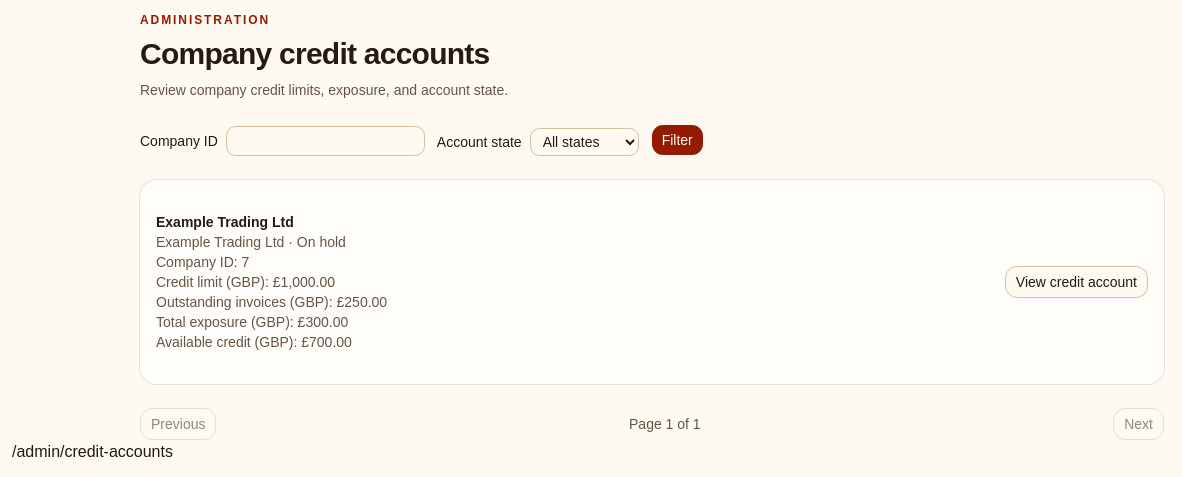
Test: AdminCreditAccountsPage › writes filter edits to the URL and reloads the list
expect the heading "Example Trading Ltd" is shown: met, box [156, 214, 294, 230]
Type "7" into the field labelled "Company ID" at (325, 141), box [226, 126, 425, 156]
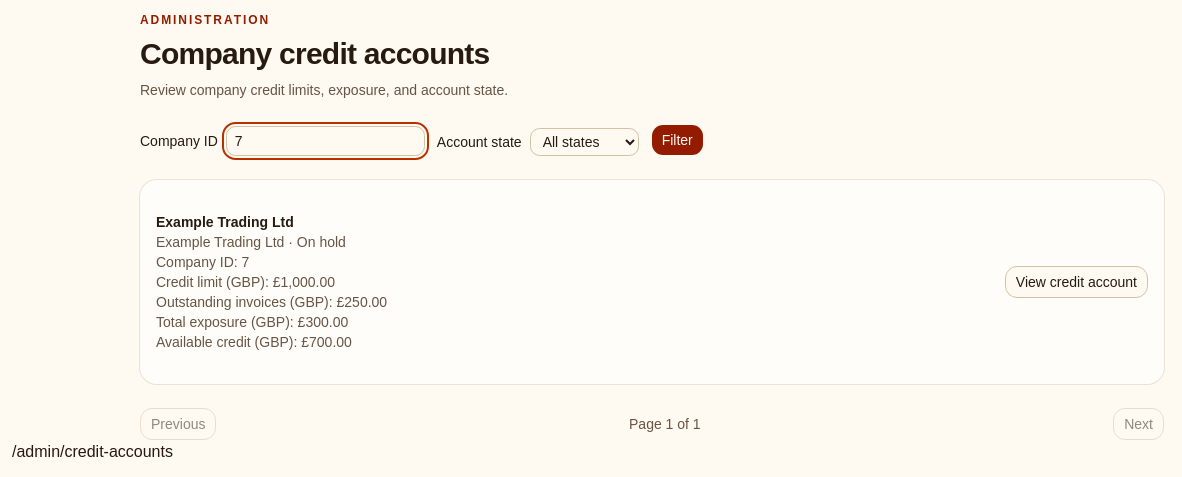
Select "Suspended" in the dropdown labelled "Account state" at (584, 142), box [530, 128, 639, 156]
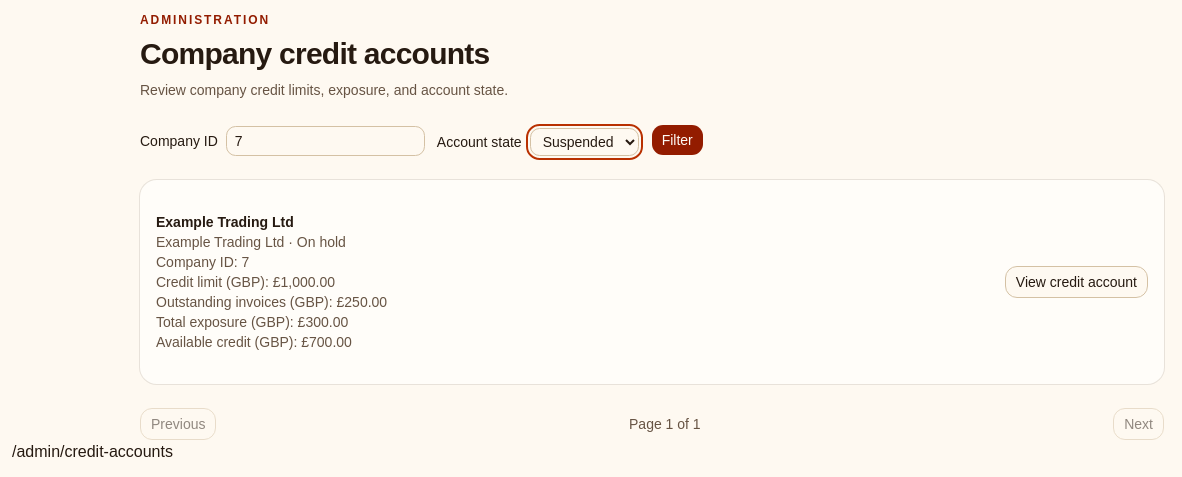
Click the button "Filter" at (677, 140), box [651, 124, 704, 156]
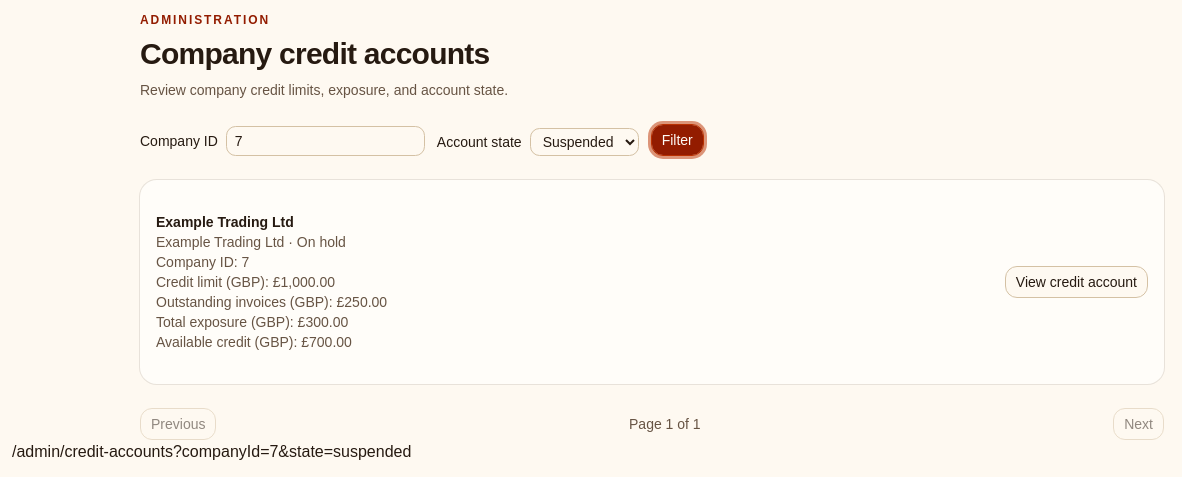
expect the text with test id "location" shows "companyId=7&state=suspended": met, box [12, 443, 411, 460]
